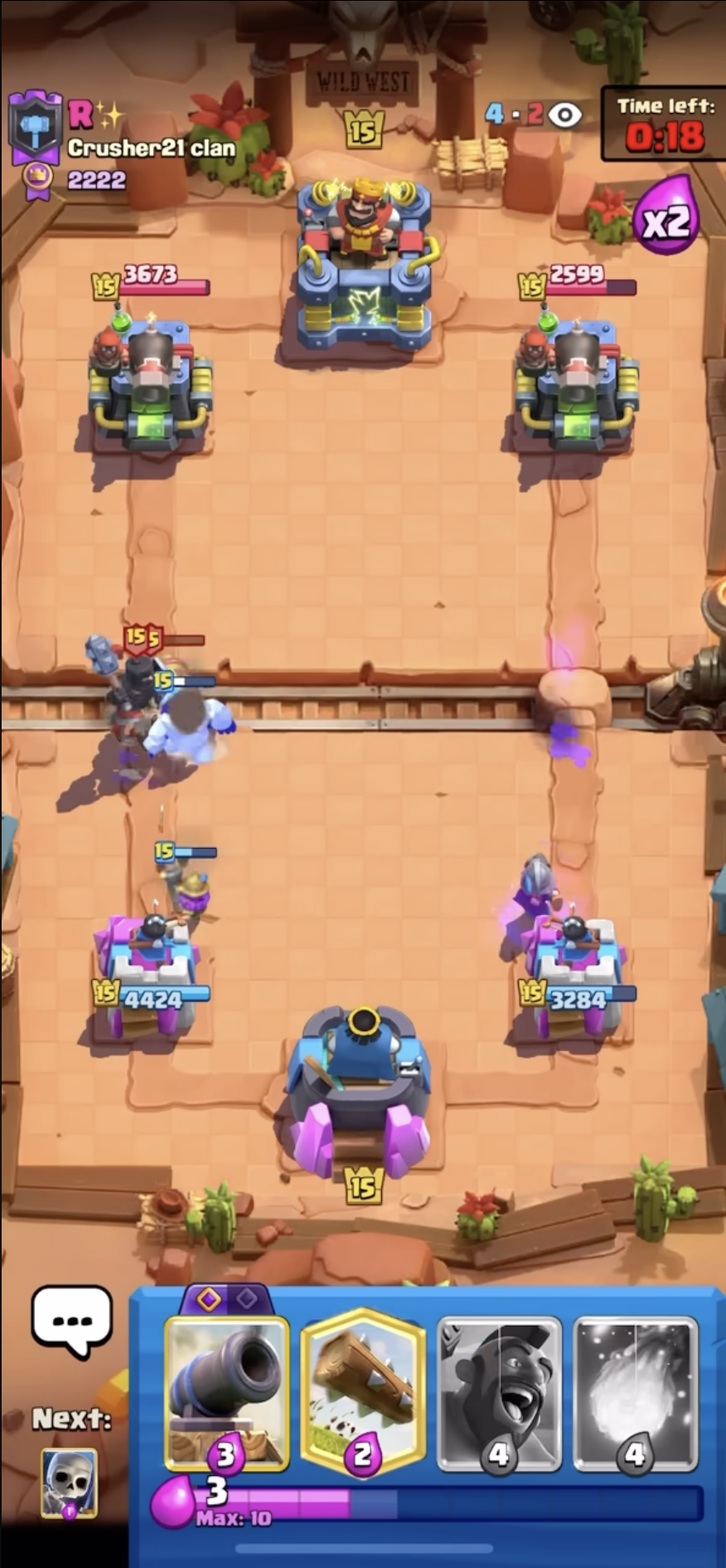evo-musketeer: (500, 832, 574, 946)
ice-golem: (149, 666, 247, 786)
musketeer: (146, 816, 230, 940)
